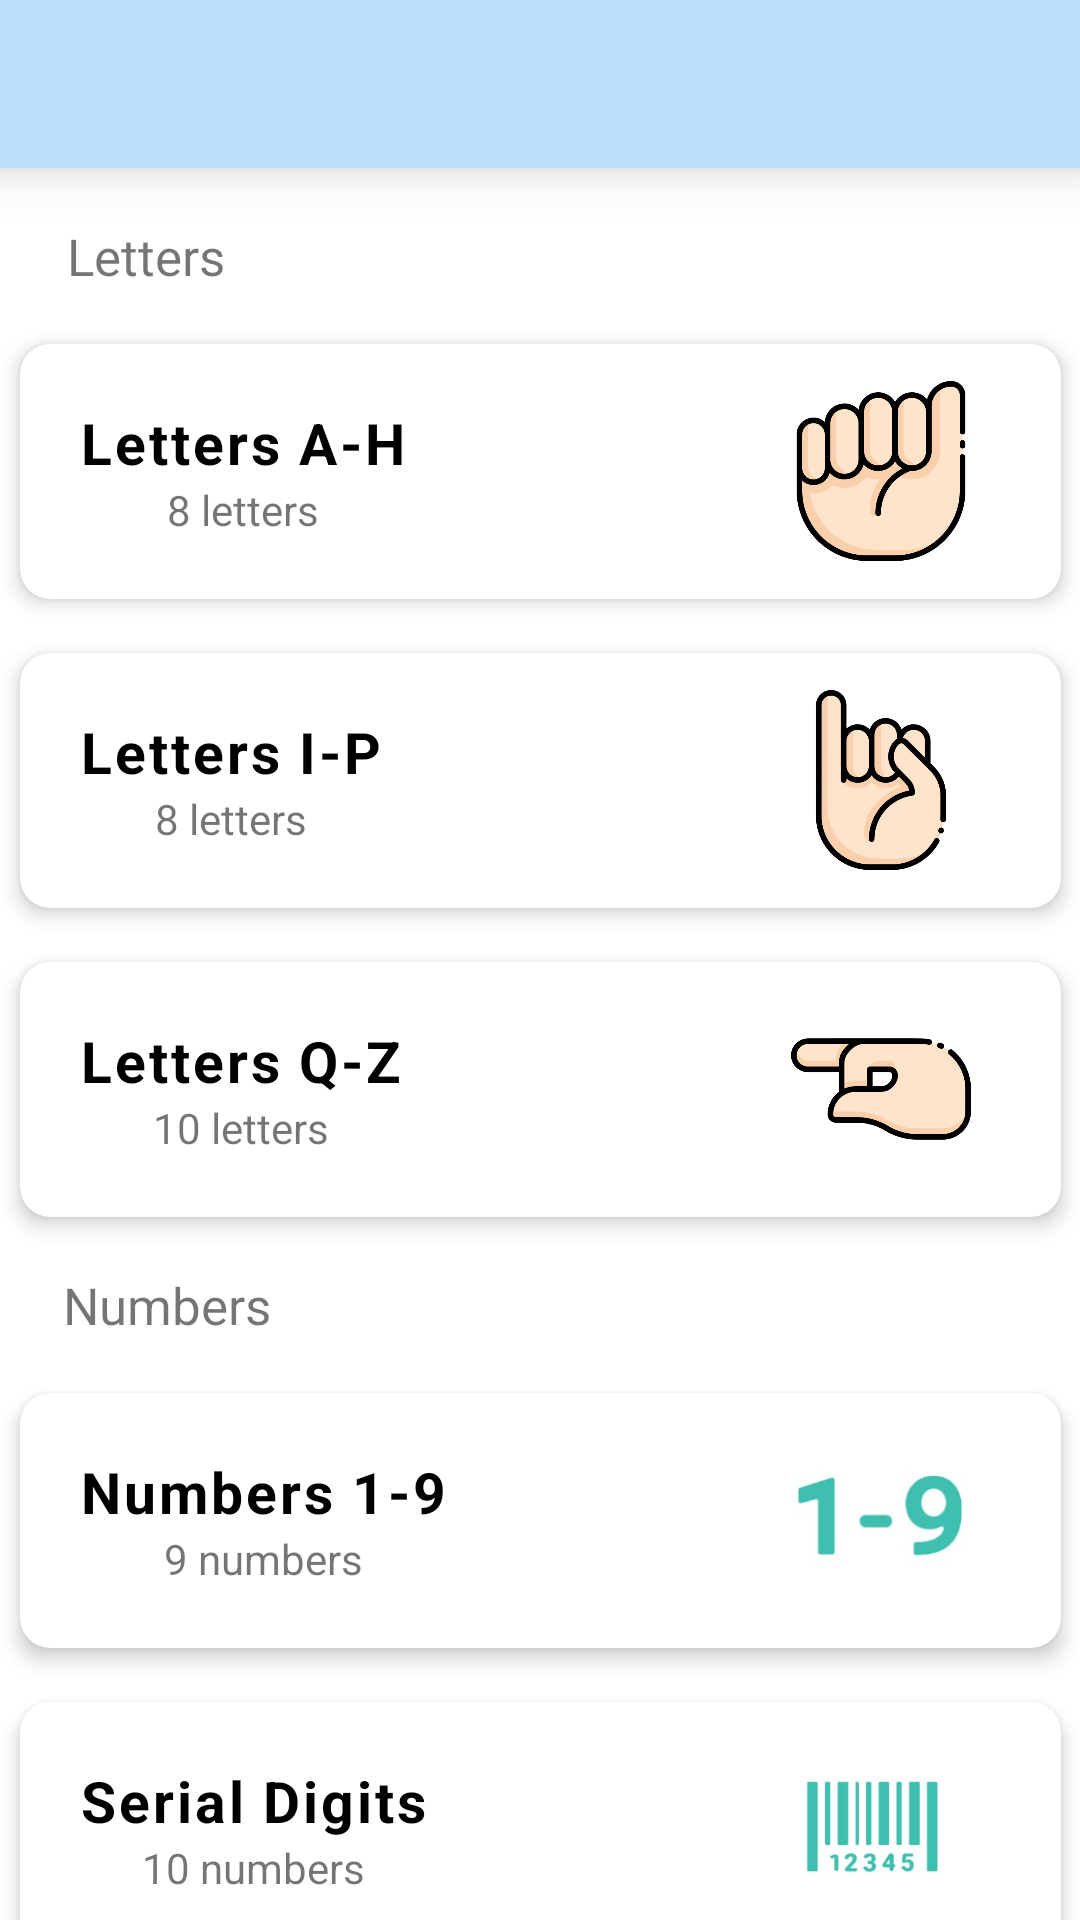

Icons on this 1080*1920 Android screen, each with the point to tap as point (x, y):
serialdigit: point (872, 1826)
